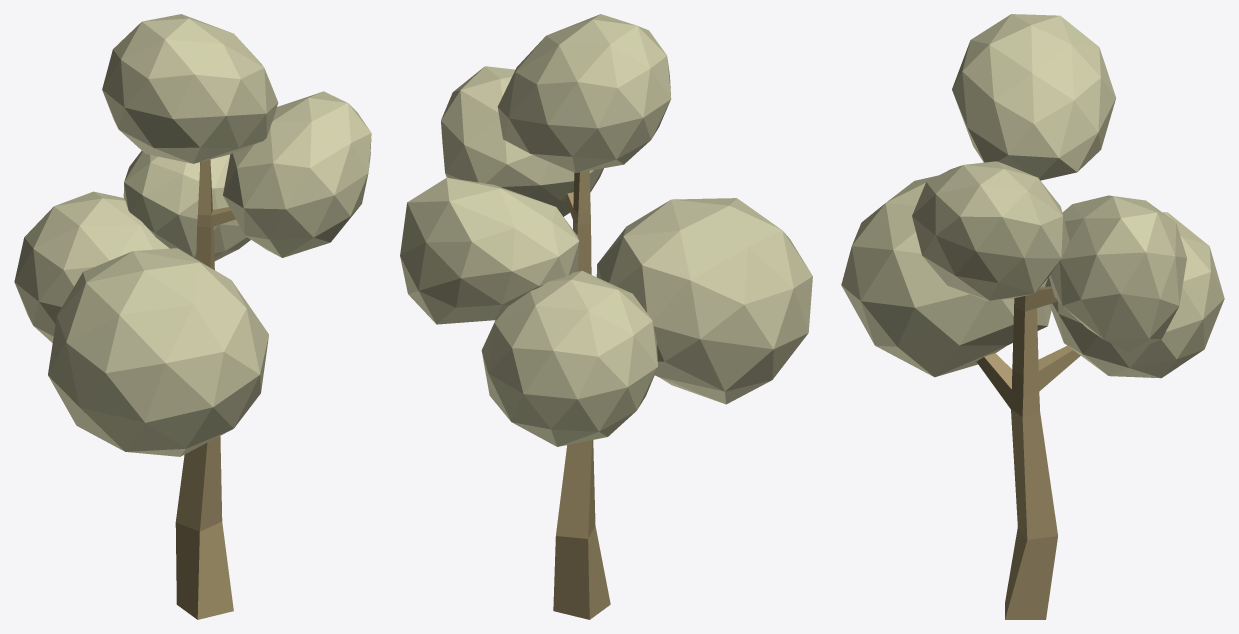
File: OakTree2Dark1.fbx
3 views of the same model, side by side, from view 1: azimuth 30°, elevation 25°; view 2: azimuth 150°, elevation 25°; view 3: azimuth 270°, elevation 25° (orthographic). The views are drawn at different scales.
Visible parts, largest first — view 1: OakTree2; view 2: OakTree2; view 3: OakTree2.
Boxes of the visible parts, box(x1,y1,x2,y2) form: OakTree2: box(14, 14, 371, 619); OakTree2: box(400, 14, 812, 619); OakTree2: box(841, 14, 1224, 619).
Bounding box in the file's own units: 427 × 763 × 458.
